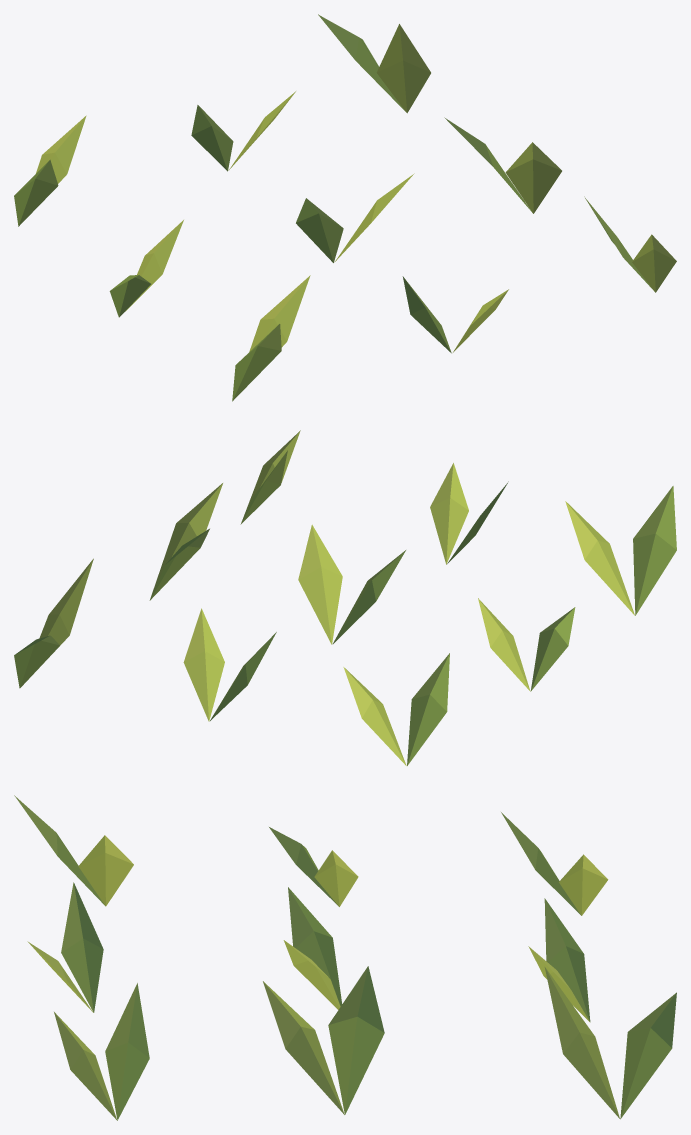
File: sprout.glb
3 renders of one model, top to bottom at view 1: azimuth 30°, elevation 25°; view 2: azimuth 150°, elevation 25°; view 3: azimuth 270°, elevation 25°, orthographic. The views are drawn at different scales.
Visible parts, largest first — view 1: Keimlinge; view 2: Keimlinge; view 3: Keimlinge.
Part boxes in pixels (x1,y1,x2,y2): Keimlinge: (14, 14, 676, 401); Keimlinge: (14, 430, 676, 765); Keimlinge: (14, 795, 676, 1120).
Size of the model in its own units: 0.7495 by 0.2024 by 0.9276.
